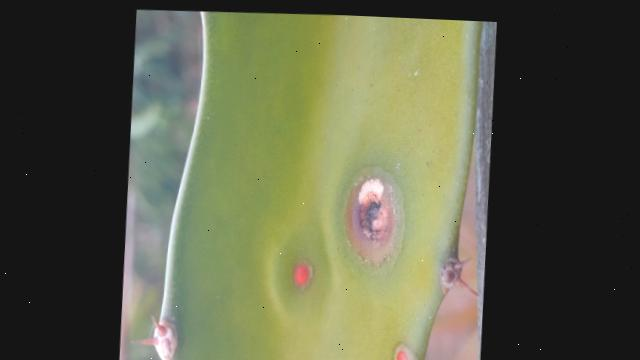stemcanker: (266, 239, 326, 312)
